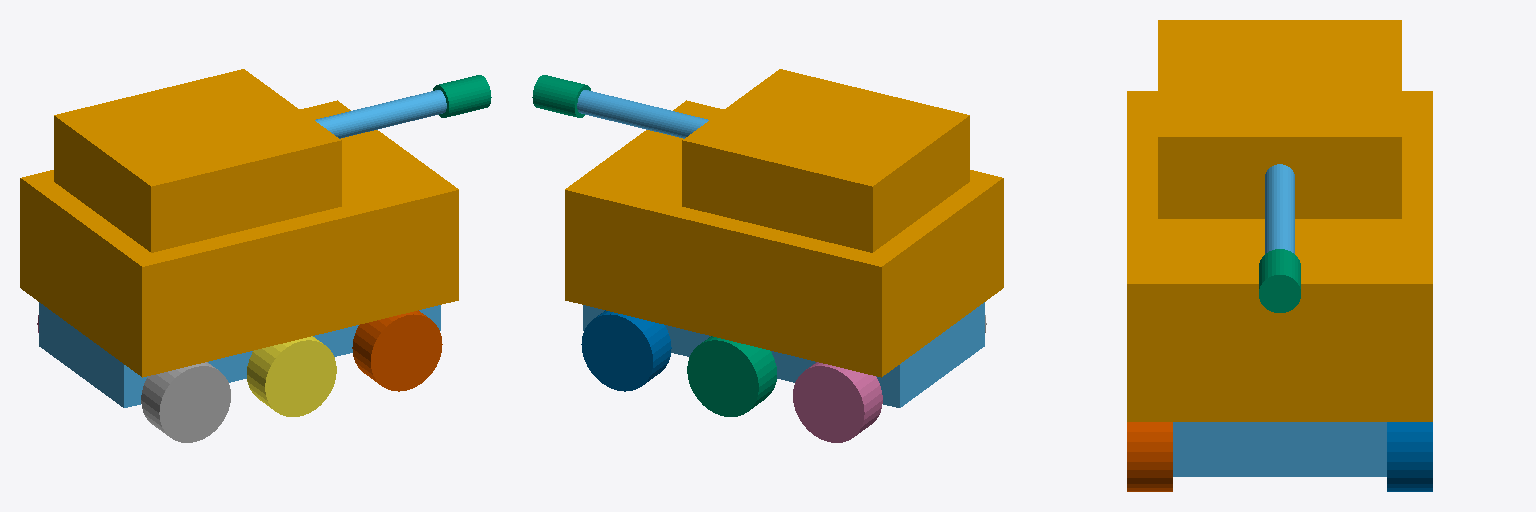
URDF robot description (sample2):
<?xml version="1.0"?>
<robot name="sample2">

  <link name="base_link">
    <visual>
      <geometry>
        <box size="1.5 1 0.5"/>
      </geometry>
    </visual>
  </link>

  <joint name="base_to_bottom" type="fixed">
    <parent link="base_link"/>
    <child link="bottom"/>
    <origin xyz="0 0 -0.25"/>
  </joint>

  <link name="bottom">
    <visual>
      <geometry>
        <box size="1.5 0.7 0.2"/>
      </geometry>
      <origin xyz="0 0 -0.1"/>
    </visual>
  </link>

  <joint name="bottom_to_mlwheel" type="continuous">
    <parent link="bottom"/>
    <child link="mid_lift_wheel"/>
    <origin xyz="0 0.35 -0.18"/>
    <axis xyz="0 1 0"/>
  </joint>

  <link name="mid_lift_wheel">
    <visual>
      <geometry>
        <cylinder length="0.15" radius="0.17"/>
      </geometry>
      <origin rpy="1.57075 0 0" xyz="0 0.075 0"/>
    </visual>
  </link>

  <joint name="bottom_to_mrwheel" type="continuous">
    <parent link="bottom"/>
    <child link="mid_right_wheel"/>
    <origin xyz="0 -0.35 -0.18"/>
    <axis xyz="0 1 0"/>
  </joint>

  <link name="mid_right_wheel">
    <visual>
      <geometry>
        <cylinder length="0.15" radius="0.17"/>
      </geometry>
      <origin rpy="1.57075 0 0" xyz="0 -0.075 0"/>
    </visual>
  </link>

  <joint name="bottom_to_flwheel" type="continuous">
    <parent link="bottom"/>
    <child link="front_lift_wheel"/>
    <origin xyz="0.5 0.35 -0.18"/>
    <axis xyz="0 1 0"/>
  </joint>

  <link name="front_lift_wheel">
    <visual>
      <geometry>
        <cylinder length="0.15" radius="0.17"/>
      </geometry>
      <origin rpy="1.57075 0 0" xyz="0 0.075 0"/>
    </visual>
  </link>

  <joint name="bottom_to_frwheel" type="continuous">
    <parent link="bottom"/>
    <child link="front_right_wheel"/>
    <origin xyz="0.5 -0.35 -0.18"/>
    <axis xyz="0 1 0"/>
  </joint>

  <link name="front_right_wheel">
    <visual>
      <geometry>
        <cylinder length="0.15" radius="0.17"/>
      </geometry>
      <origin rpy="1.57075 0 0" xyz="0 -0.075 0"/>
    </visual>
  </link>

  <joint name="bottom_to_blwheel" type="continuous">
    <parent link="bottom"/>
    <child link="back_lift_wheel"/>
    <origin xyz="-0.5 0.35 -0.18"/>
    <axis xyz="0 1 0"/>
  </joint>

  <link name="back_lift_wheel">
    <visual>
      <geometry>
        <cylinder length="0.15" radius="0.17"/>
      </geometry>
      <origin rpy="1.57075 0 0" xyz="0 0.075 0"/>
    </visual>
  </link>

  <joint name="bottom_to_brwheel" type="continuous">
    <parent link="bottom"/>
    <child link="back_right_wheel"/>
    <origin xyz="-0.5 -0.35 -0.18"/>
    <axis xyz="0 1 0"/>
  </joint>

  <link name="back_right_wheel">
    <visual>
      <geometry>
        <cylinder length="0.15" radius="0.17"/>
      </geometry>
      <origin rpy="1.57075 0 0" xyz="0 -0.075 0"/>
    </visual>
  </link>

  <joint name="base_to_cannon" type="continuous">
    <parent link="base_link"/>
    <child link="cannon"/>
    <origin xyz="-0.2 0 0.25"/>
    <axis xyz="0 0 1"/>
  </joint>

  <link name="cannon">
    <visual>
      <geometry>
        <box size="0.9 0.8 0.3"/>
      </geometry>
      <origin xyz="0 0 0.15"/>
    </visual>
  </link>

  <joint name="cannon_to_barrel" type="revolute">
    <parent link="cannon"/>
    <child link="barrel"/>
    <origin xyz="0.45 0 0.15"/>
    <axis xyz="0 -1 0"/>
    <limit effort="1000.0" lower="-0.1" upper="0.5" velocity="0.5"/>
  </joint>

  <link name="barrel">
    <visual>
      <geometry>
        <cylinder length="0.7" radius="0.05"/>
      </geometry>
      <origin rpy="0 1.57075 0" xyz="0.35 0 0"/>
    </visual>
  </link>

  <joint name="barrel_to_muzzle" type="fixed">
    <parent link="barrel"/>
    <child link="muzzle"/>
    <origin xyz="0.7 0 0"/>
  </joint>

  <link name="muzzle">
    <visual>
      <geometry>
        <cylinder length="0.2" radius="0.07"/>
      </geometry>
      <origin rpy="0 1.57075 0" xyz="0.1 0 0"/>
    </visual>
  </link>

</robot>

--- Render facts (derived) ---
3 views of the same robot in one strip: view 1: azimuth 30°, elevation 25°; view 2: azimuth 150°, elevation 25°; view 3: azimuth 270°, elevation 25° (orthographic).
Model sample2 with 11 links and 10 joints (1 revolute, 7 continuous, 2 fixed), rooted at base_link, posed all joints at 0.
Visible links, largest first — view 1: base_link, cannon, bottom, mid_right_wheel, back_right_wheel, front_right_wheel, barrel, muzzle; view 2: base_link, cannon, bottom, mid_lift_wheel, back_lift_wheel, front_lift_wheel, barrel, muzzle; view 3: base_link, cannon, bottom, front_lift_wheel, front_right_wheel, barrel, muzzle.
Link boxes in pixels (x1,y1,x2,y2): base_link: [20, 100, 458, 377]; cannon: [54, 69, 341, 252]; bottom: [39, 302, 440, 407]; mid_right_wheel: [247, 336, 336, 416]; back_right_wheel: [141, 362, 230, 442]; front_right_wheel: [352, 310, 442, 391]; barrel: [315, 90, 446, 138]; muzzle: [433, 75, 491, 117]; base_link: [565, 100, 1003, 377]; cannon: [682, 69, 969, 252]; bottom: [583, 302, 984, 407]; mid_lift_wheel: [687, 336, 776, 416]; back_lift_wheel: [793, 362, 882, 442]; front_lift_wheel: [581, 310, 671, 391]; barrel: [577, 90, 708, 138]; muzzle: [532, 75, 590, 117]; base_link: [1127, 91, 1432, 421]; cannon: [1158, 20, 1401, 218]; bottom: [1173, 422, 1386, 476]; front_lift_wheel: [1387, 422, 1432, 491]; front_right_wheel: [1127, 422, 1172, 491]; barrel: [1265, 164, 1294, 253]; muzzle: [1259, 249, 1300, 312].
Size in the robot's own frame: 1.9 by 1 by 1.15 metres.
Geometry: primitives only (box / cylinder / sphere), no mesh files.